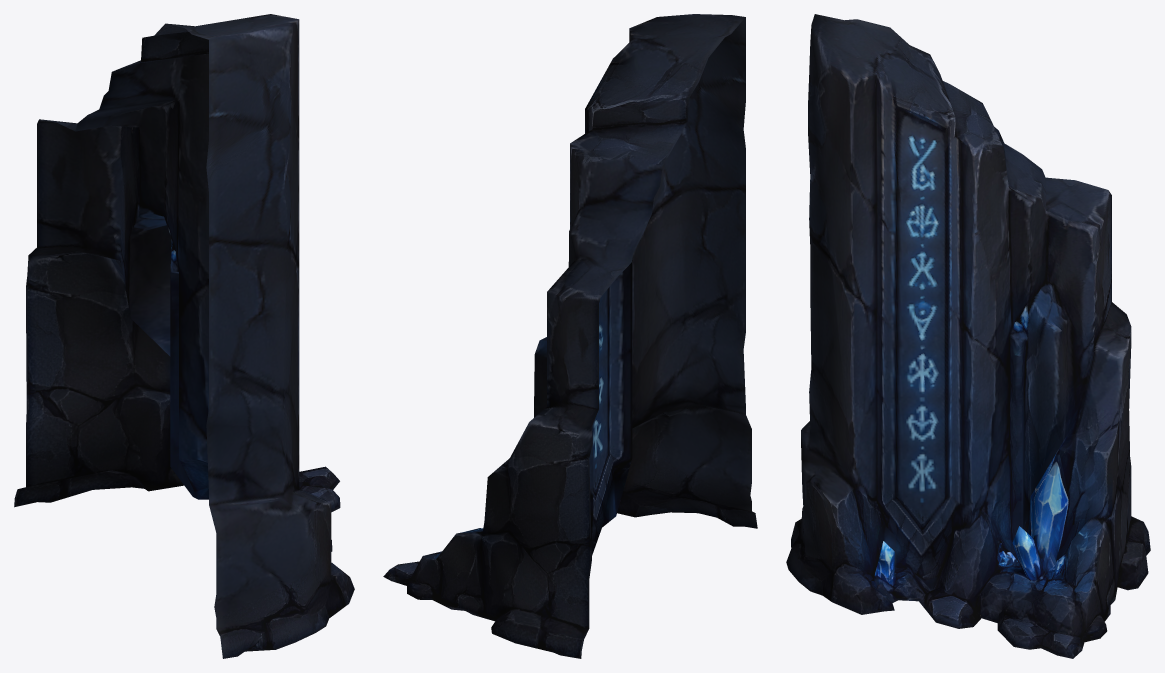
File: fantasy+rune+obelisk+3d+model.fbx
3 renders of one model, left to right at view 1: azimuth 30°, elevation 25°; view 2: azimuth 150°, elevation 25°; view 3: azimuth 270°, elevation 25°, orthographic. The views are drawn at different scales.
Visible parts, largest first — view 1: meshes[0]; view 2: meshes[0]; view 3: meshes[0].
Boxes of the visible parts, box(x1,y1,x2,y2) form: meshes[0]: box(14, 14, 354, 658); meshes[0]: box(383, 14, 757, 658); meshes[0]: box(786, 14, 1150, 658).
Size of the model in its own units: 0.4707 by 0.998 by 0.623.
